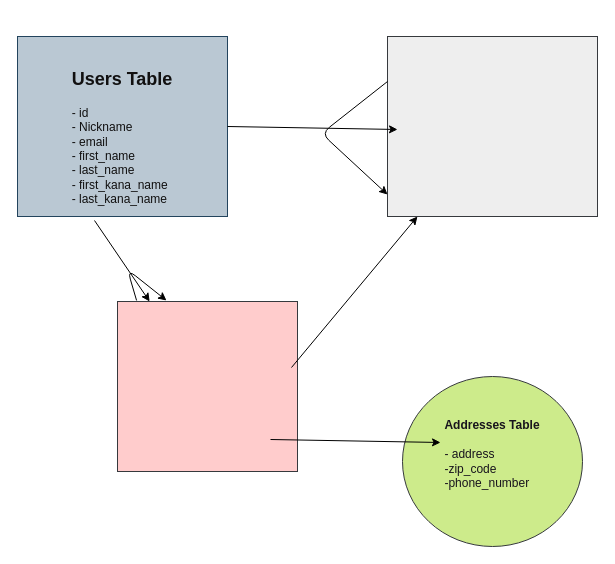
The diagram is 615 pixels wide and 564 high, and some of its shapes have lost their labels. The shapes that lost their labels are listed below. From the top down, each one's box as (x1, y1, x2, y2) in pixels, then its label:
(386, 36, 598, 216): Items Table - item_name - price -description - column
(116, 300, 298, 472): Orders Table - purchase_items
